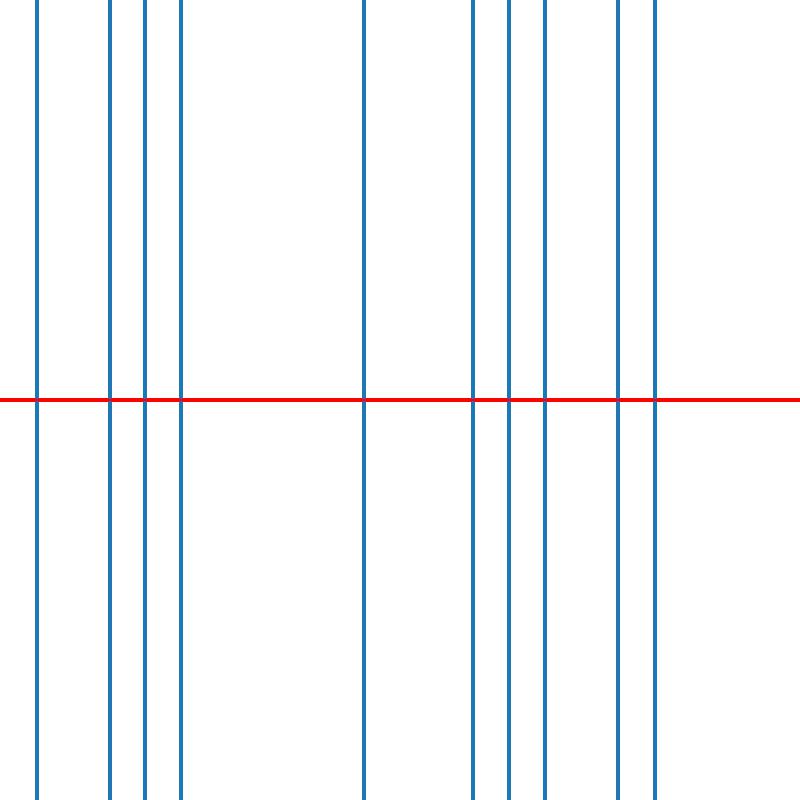root: (141, 396, 149, 404), (541, 396, 549, 404), (650, 396, 658, 404), (32, 396, 40, 404), (105, 396, 112, 404), (178, 396, 185, 404), (469, 396, 476, 404), (505, 396, 512, 404), (614, 396, 621, 404), (360, 396, 367, 404)
